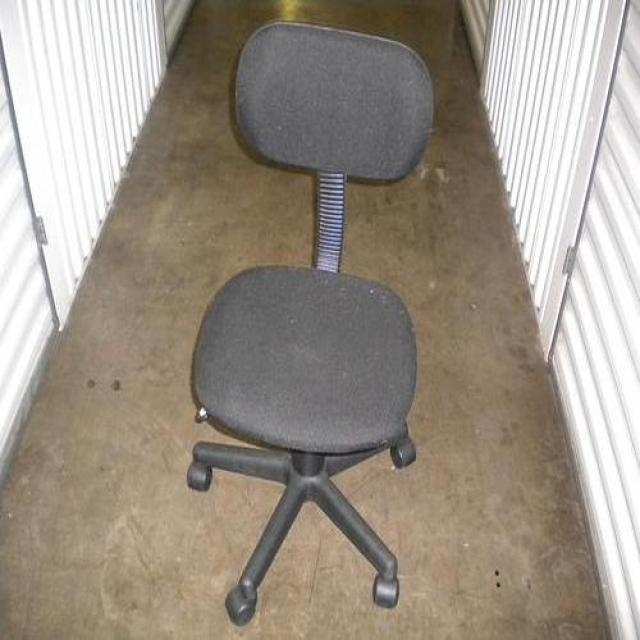swivelchair: (187, 22, 434, 628)
